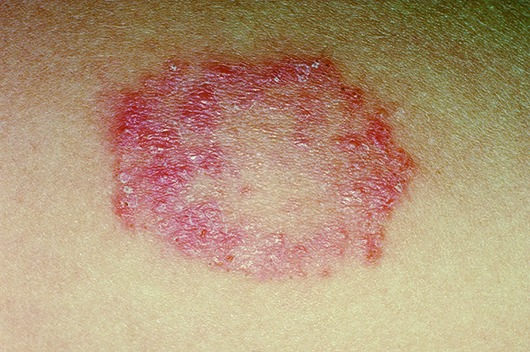Ringworm: (97, 25, 431, 294)
